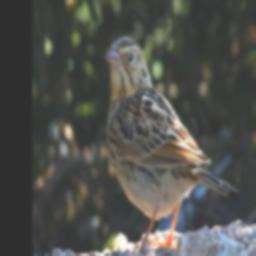Sparrow: (99, 27, 242, 255)
